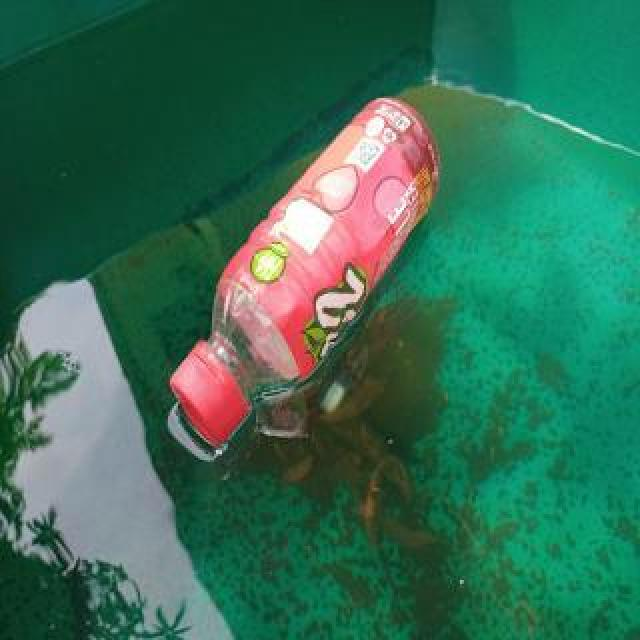Bottle: (167, 96, 446, 451)
